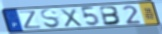2: (121, 4, 143, 25)
5: (79, 6, 101, 28)
B: (99, 5, 123, 26)
S: (40, 8, 62, 29)
X: (59, 8, 85, 28)
Z: (18, 10, 44, 30)
